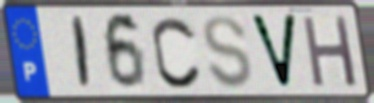6: (100, 10, 149, 96)
C: (150, 14, 204, 91)
H: (300, 13, 361, 90)
I: (71, 14, 93, 92)
S: (201, 13, 255, 92)
V: (247, 12, 300, 92)
